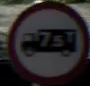Heavy Vehicles: (6, 5, 85, 75)
